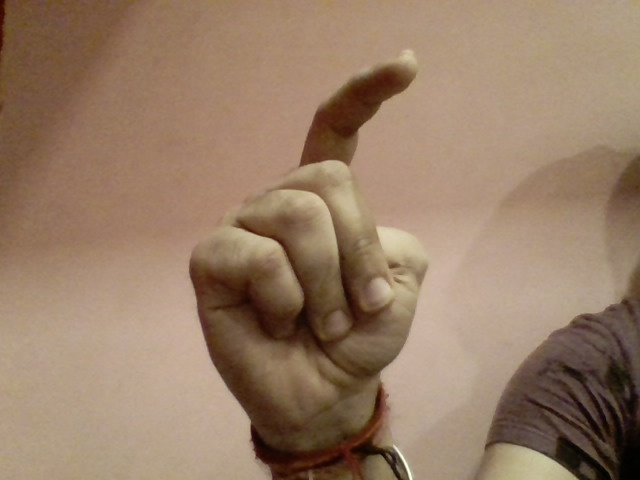x: (180, 40, 447, 415)
